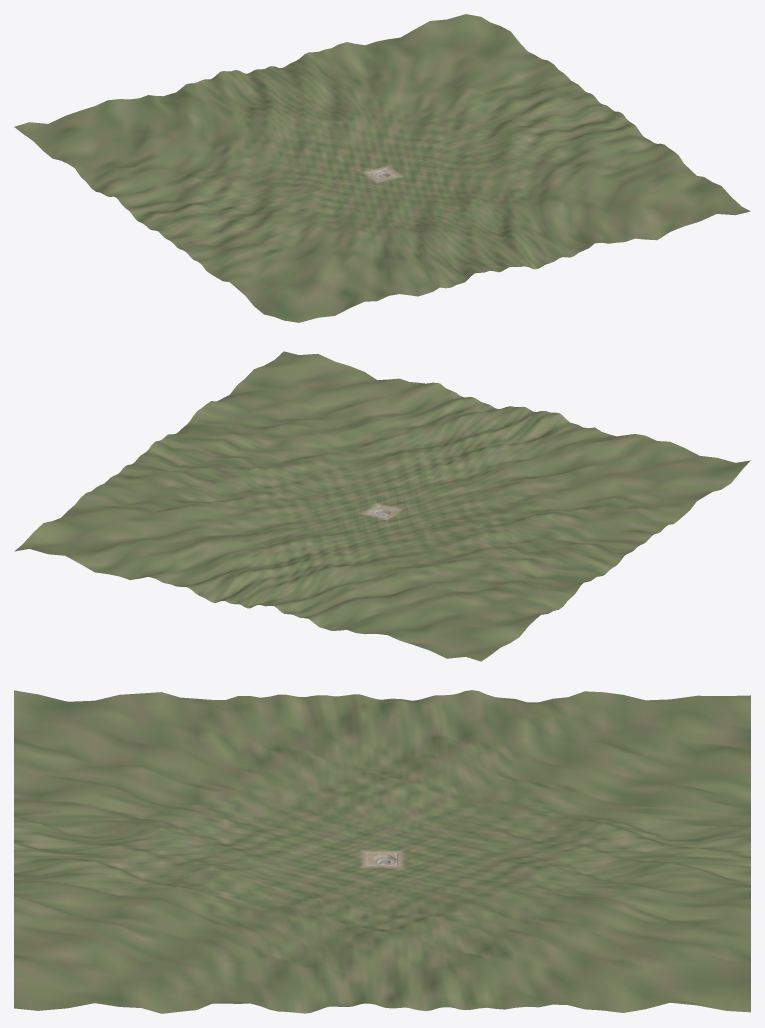
File: surround.glb
3 views of the same model, one above another, from view 1: azimuth 30°, elevation 25°; view 2: azimuth 150°, elevation 25°; view 3: azimuth 270°, elevation 25° (orthographic). The views are drawn at different scales.
Visible parts, largest first — view 1: geometry_0; view 2: geometry_0; view 3: geometry_0.
Boxes of the visible parts, x1,y1,x2,y2 form: geometry_0: (14,14,750,322); geometry_0: (14,351,750,661); geometry_0: (14,690,750,1013).
Bounding box in the file's own units: 6000 × 175 × 6000.
